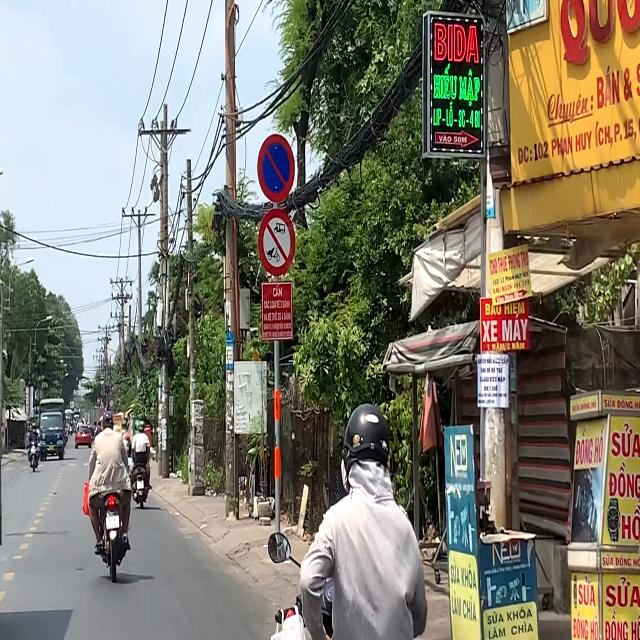P.131a: (257, 133, 295, 202)
